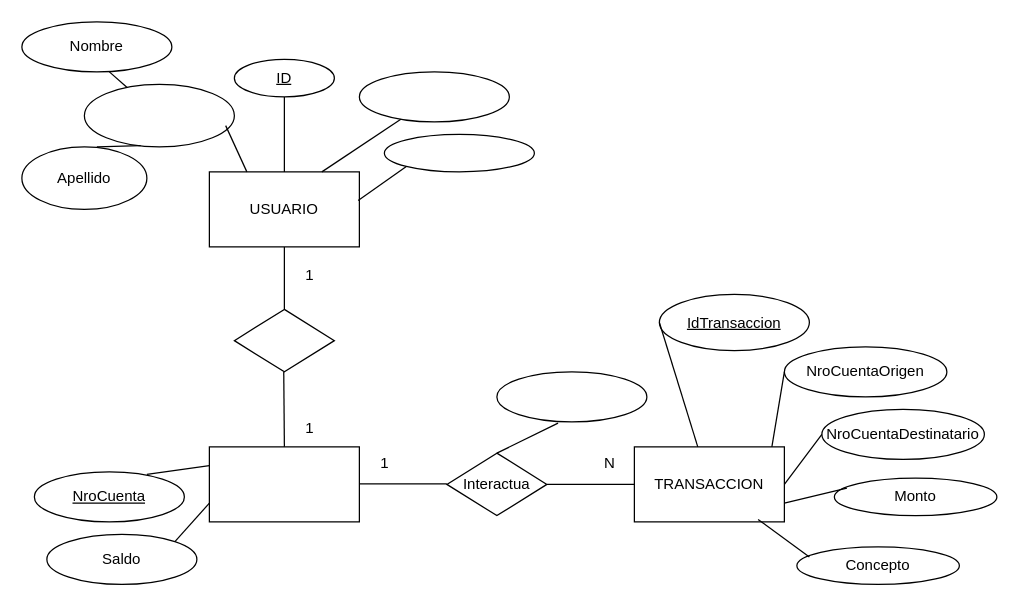
Image size: 1019x606. Some labels were removed from this diagram. Here are the shapes that lost their labels. From the top down, the centre of each, then its label:
the point at 158,115: NombreCompleto
the point at 433,96: Email
the point at 458,152: Contraseña
the point at 283,340: Asocia
the point at 571,396: Fecha
the point at 283,484: CUENTA
